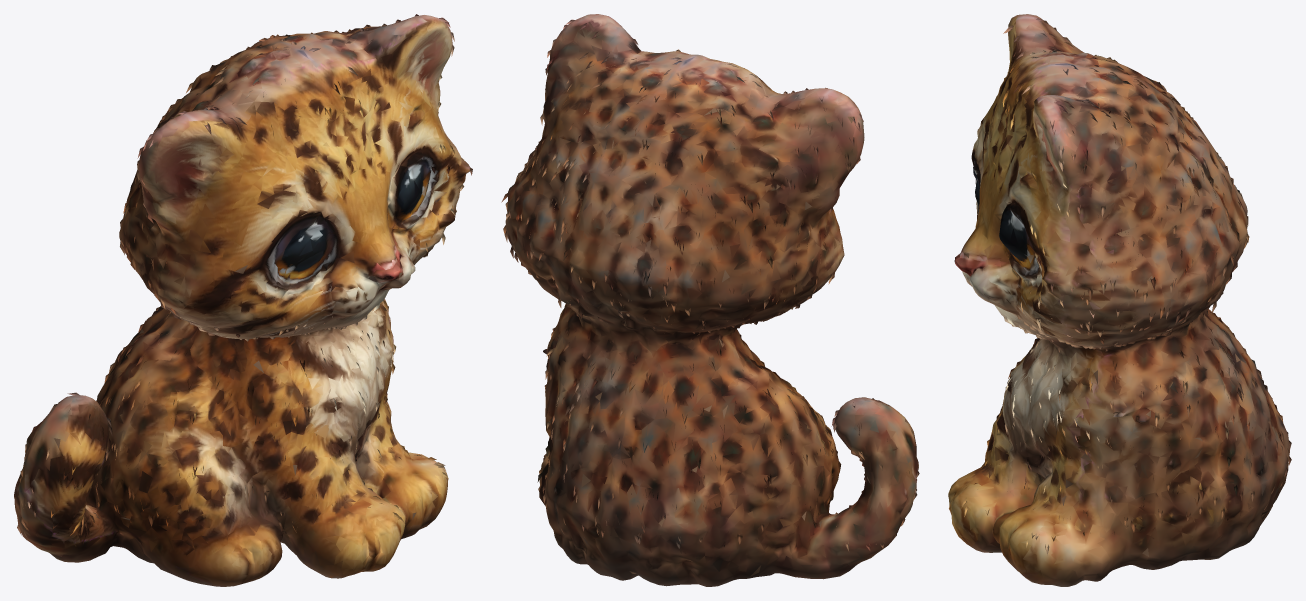
Rendered from ocelot-review.glb.
3 renders of one model, left to right at view 1: azimuth 30°, elevation 25°; view 2: azimuth 150°, elevation 25°; view 3: azimuth 270°, elevation 25°, orthographic. The views are drawn at different scales.
Visible parts, largest first — view 1: JungleOcelot_LocalReview, Ocelot_SculptedFur; view 2: JungleOcelot_LocalReview, Ocelot_SculptedFur; view 3: JungleOcelot_LocalReview, Ocelot_SculptedFur.
Boxes of the visible parts, bbox=[...] form: JungleOcelot_LocalReview: bbox=[14, 15, 470, 586]; Ocelot_SculptedFur: bbox=[17, 14, 472, 543]; JungleOcelot_LocalReview: bbox=[505, 14, 918, 586]; Ocelot_SculptedFur: bbox=[501, 19, 919, 551]; JungleOcelot_LocalReview: bbox=[948, 14, 1289, 586]; Ocelot_SculptedFur: bbox=[961, 18, 1291, 555].
Size of the model in its own units: 2.5 by 2.8 by 1.79.
1 material, 1 textured.
